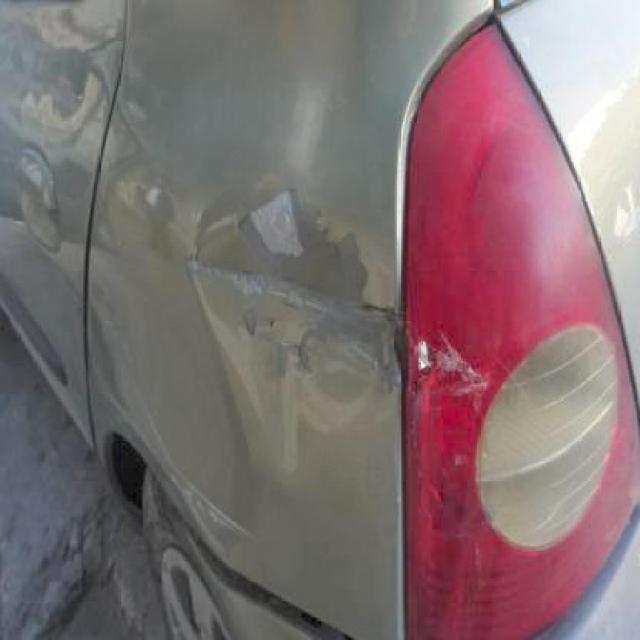car damage: (182, 167, 407, 454), (0, 11, 108, 164), (140, 176, 177, 234)
